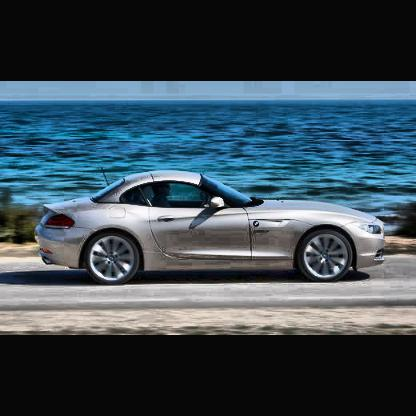BMW Z4 Convertible 2012: (35, 172, 389, 283)
